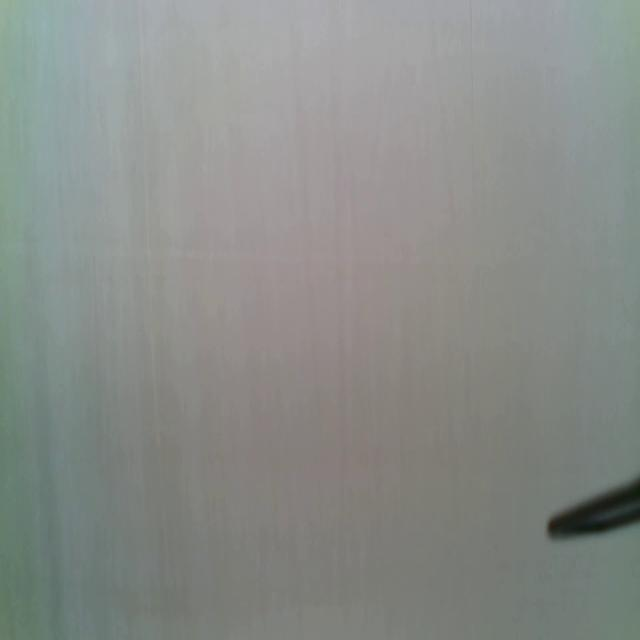crease: (137, 0, 160, 466), (468, 0, 477, 170)
